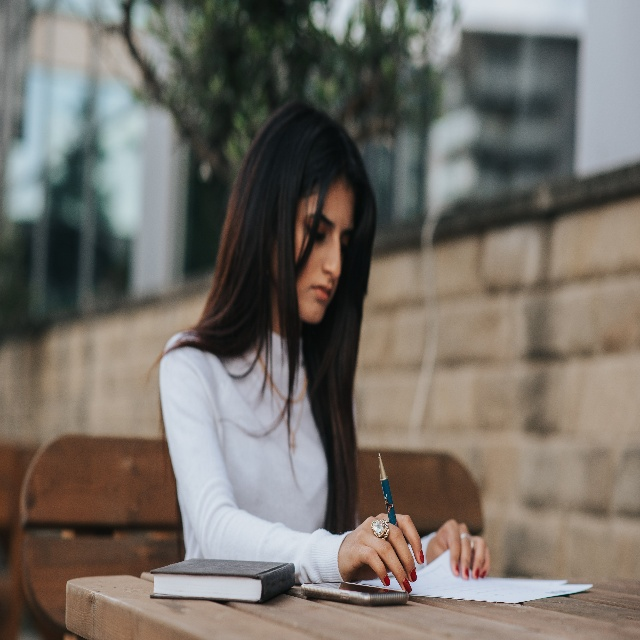Sin_guantes: (337, 509, 425, 594), (425, 514, 490, 582)
